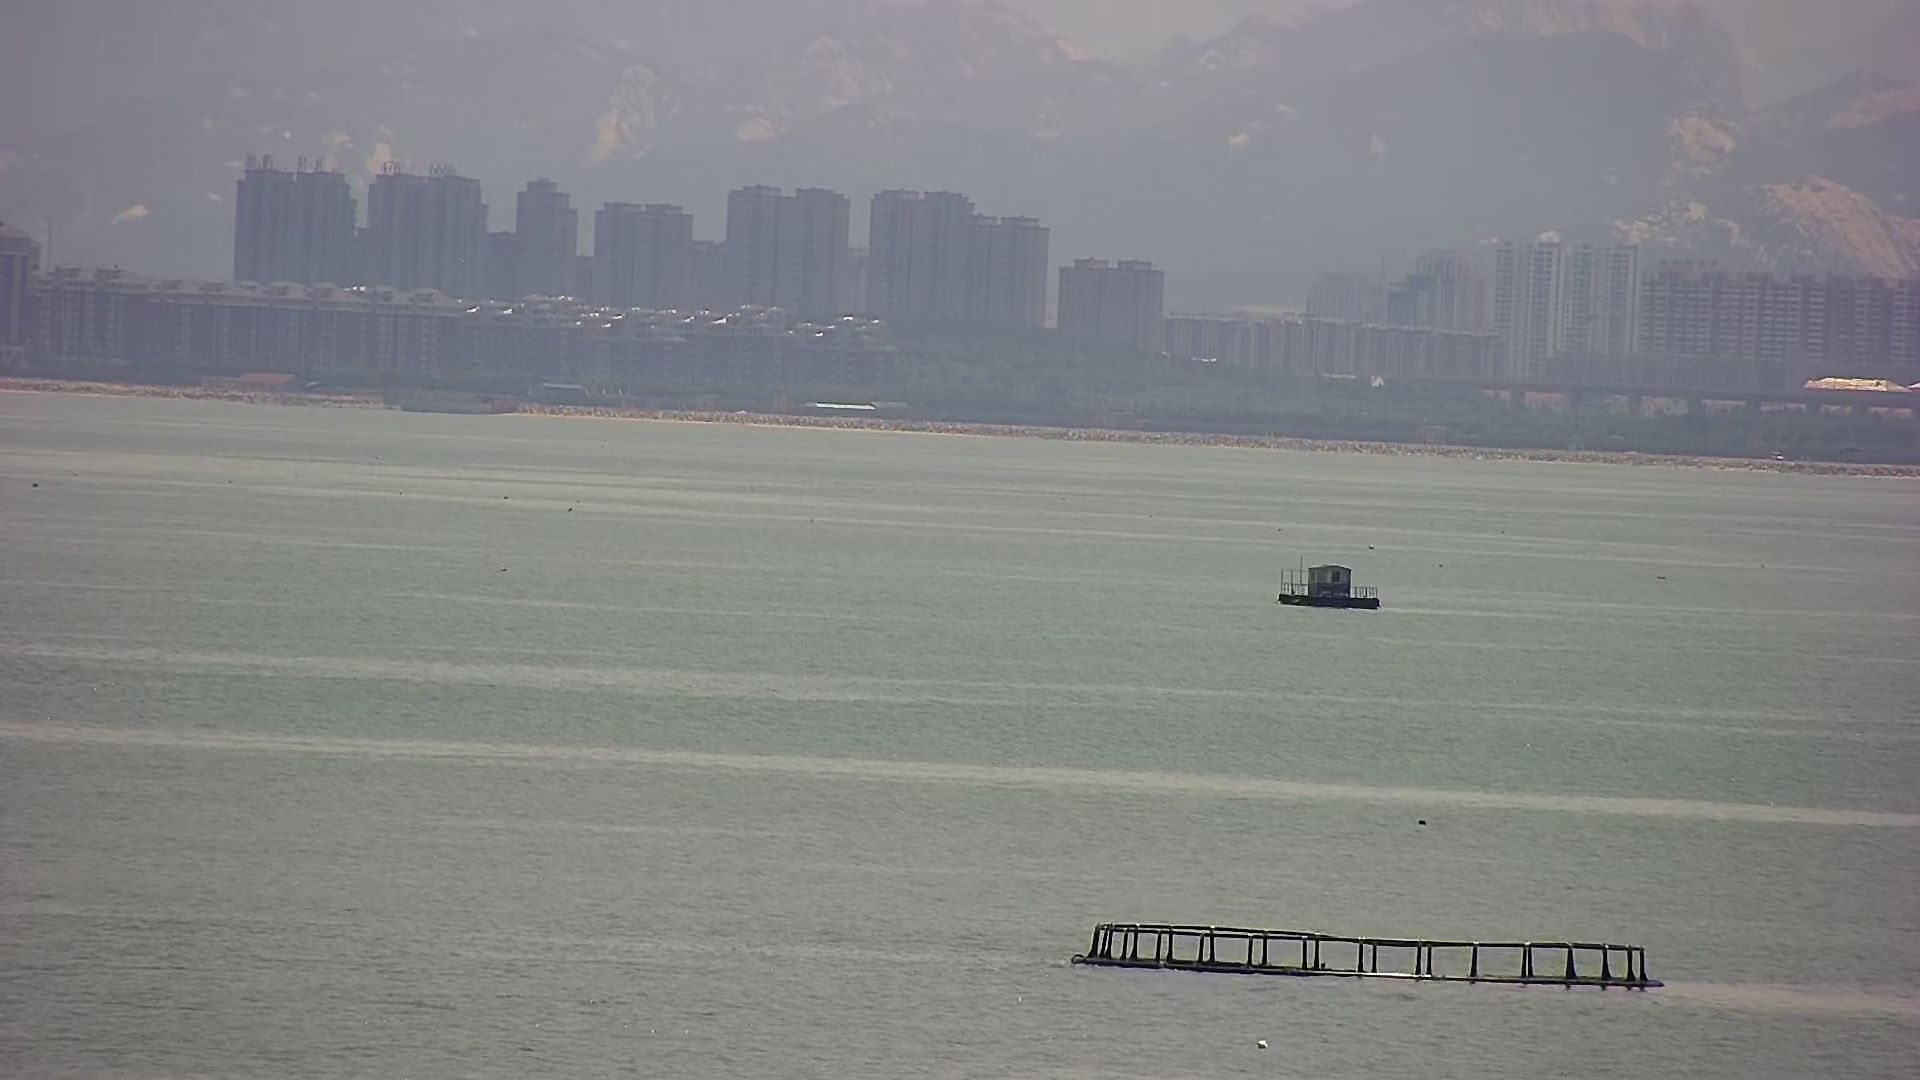buoy: (1278, 560, 1385, 612)
rubbish: (1067, 923, 1667, 993)
